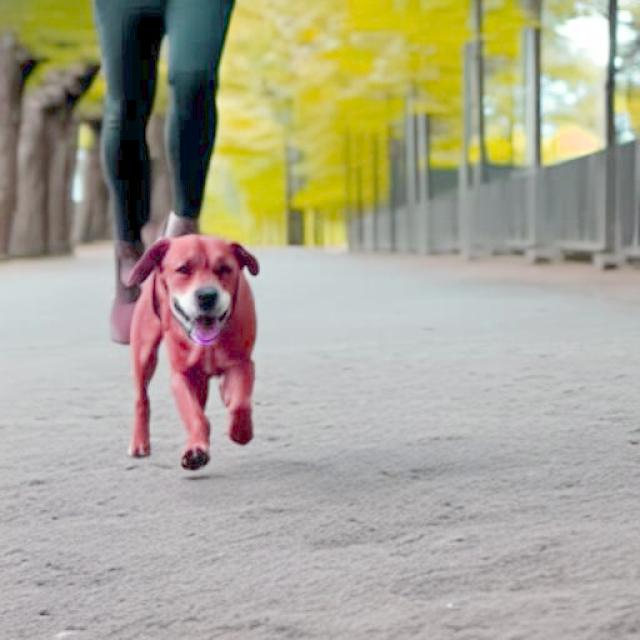Unleashed_Dog: (95, 1, 259, 471)
